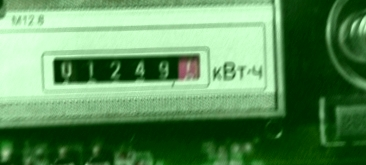0: (59, 58, 72, 78)
1: (84, 58, 94, 77)
2: (108, 58, 121, 79)
4: (133, 58, 144, 77)
7: (181, 53, 193, 73)
9: (156, 58, 169, 79)
screen: (32, 44, 208, 92)
